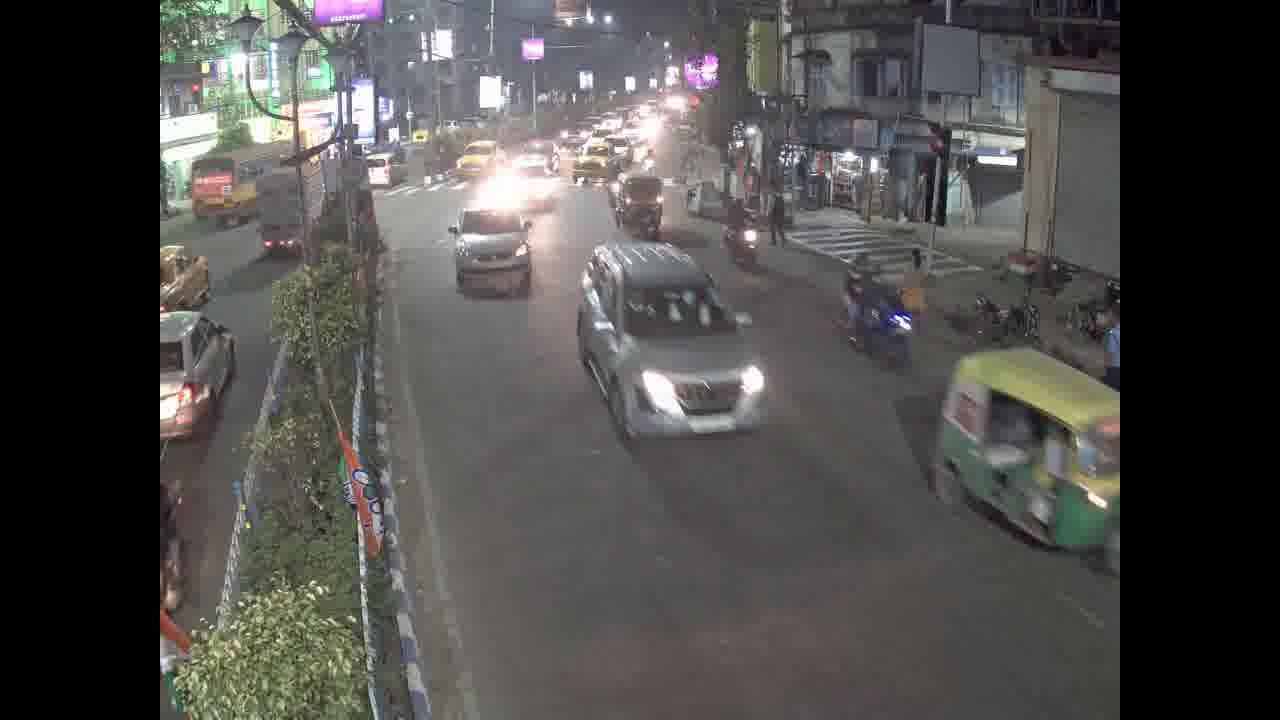auto-rickshaw: (950, 354, 1110, 554), (618, 173, 667, 231)
bike: (835, 285, 935, 394), (956, 292, 1040, 347), (705, 226, 770, 275)
car: (573, 239, 751, 421), (155, 316, 231, 440), (446, 212, 539, 281), (154, 228, 225, 310)
person: (852, 252, 895, 305), (908, 237, 930, 325), (721, 192, 754, 226), (768, 190, 790, 237)
